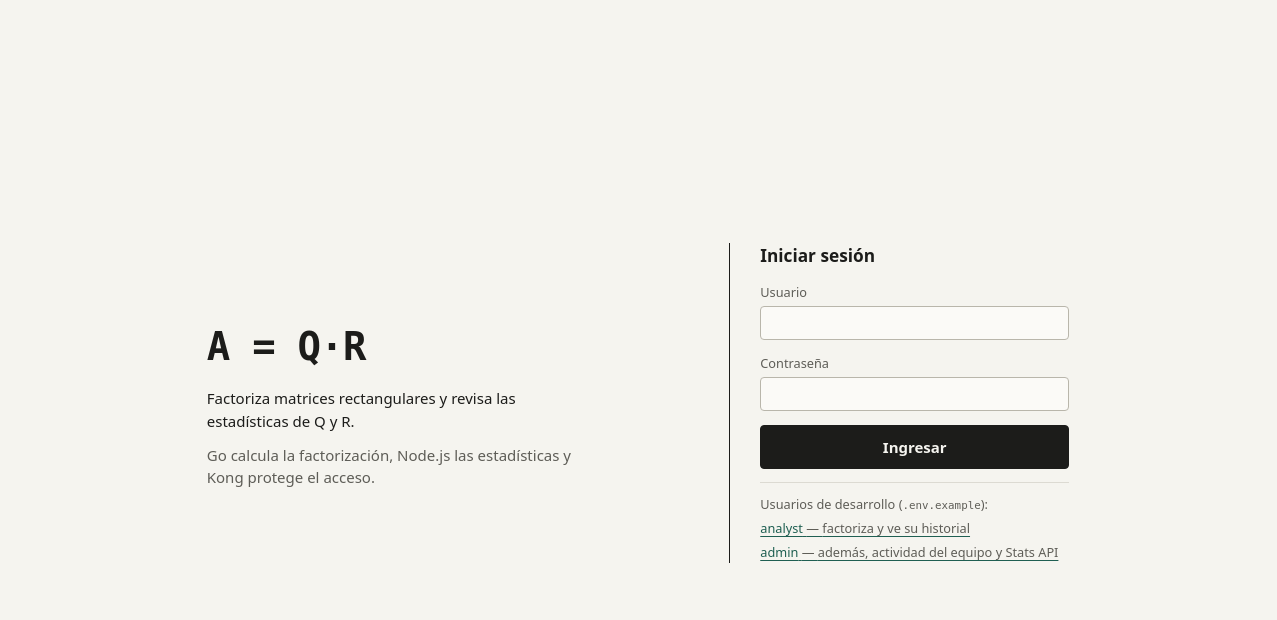
Test: App › inicia sesión, calcula la factorización y muestra las estadísticas
The width and height of the screenshot is (1277, 620).
In the field labelled "Usuario": (915, 323) [760,306,1069,340], type "analyst"
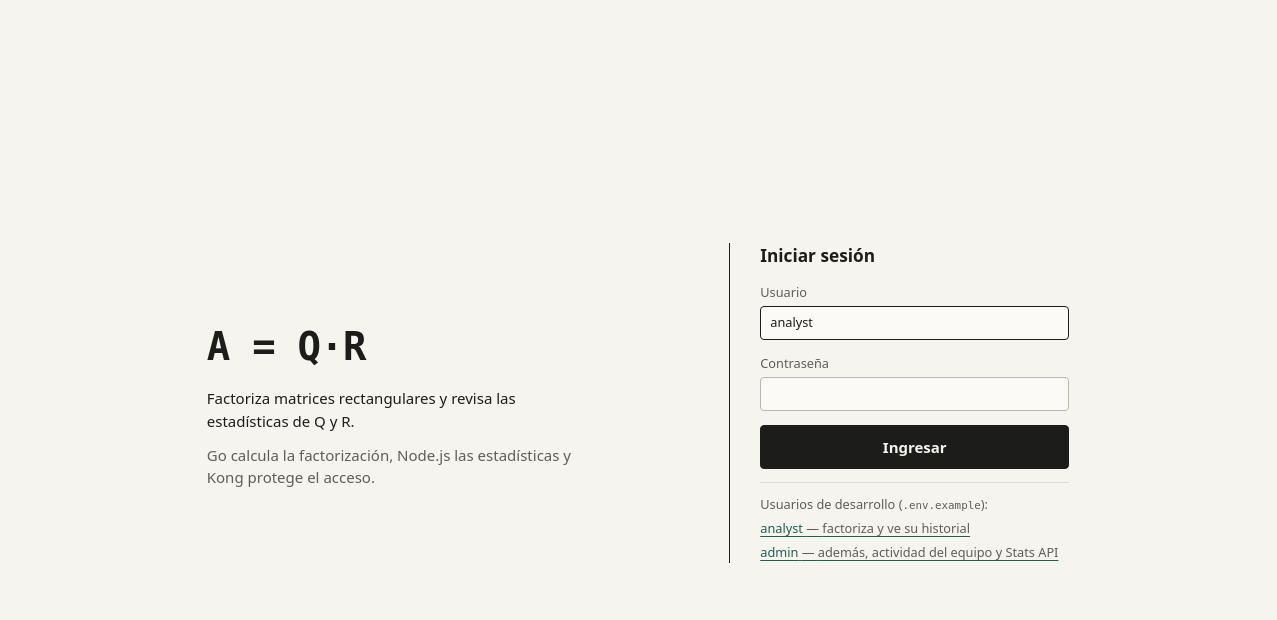
In the password field labelled "Contraseña": (915, 394) [760,377,1069,411], type "Analyst123!"
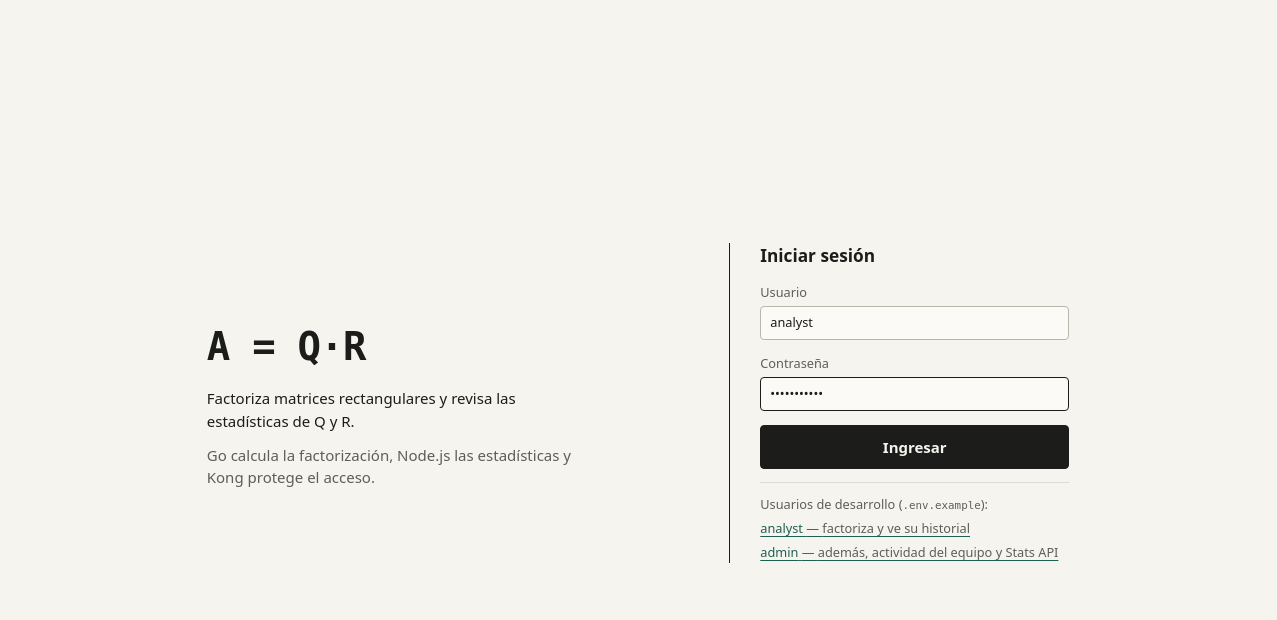
Click the button "Ingresar": (915, 447) [760,425,1069,469]
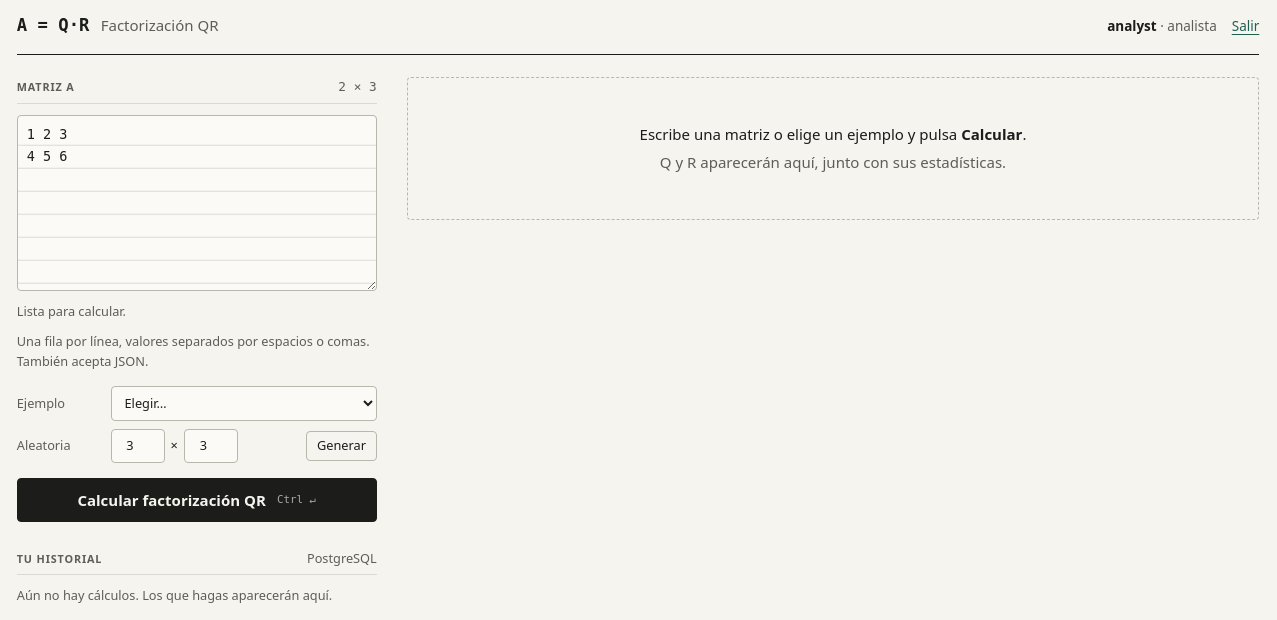
Expected: the text "analyst" is shown, [1107,17,1157,35]
Click the button "Calcular factorización QR Ctrl ↵": (197, 500) [17,478,377,522]
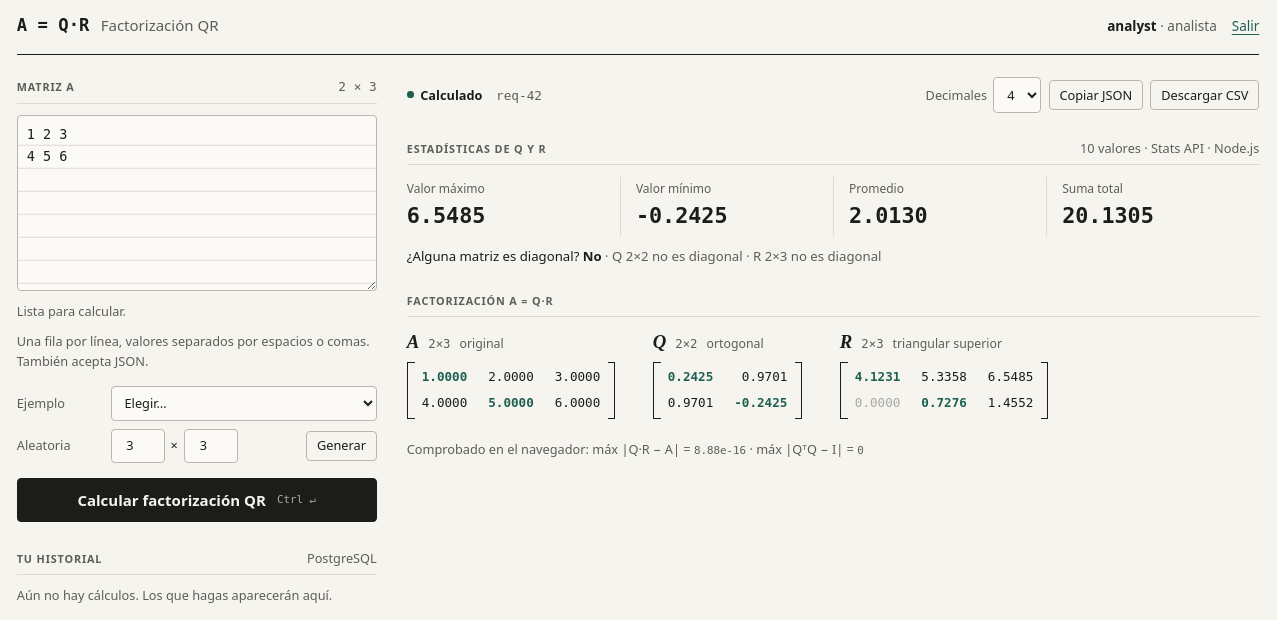
Result: the text "6.5485" is shown at [407,203,485,228]
Result: the text "-0.2425" is shown at [636,203,728,228]
Result: the text "20.1305" is shown at [1062,203,1154,228]
